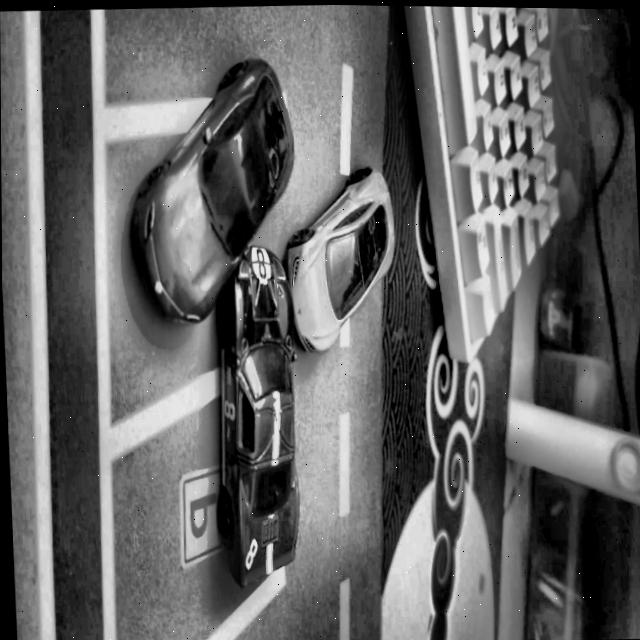car: (122, 55, 301, 327), (205, 242, 305, 590), (281, 164, 399, 358)
